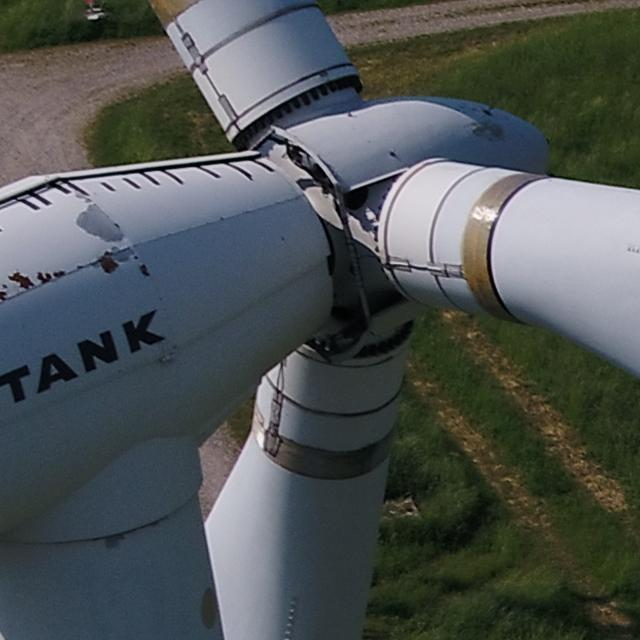damage: (71, 201, 126, 246), (279, 594, 302, 636), (94, 250, 120, 276), (8, 270, 36, 292), (621, 236, 637, 264), (103, 536, 132, 551), (50, 269, 73, 281), (137, 261, 152, 279), (34, 270, 47, 283)
